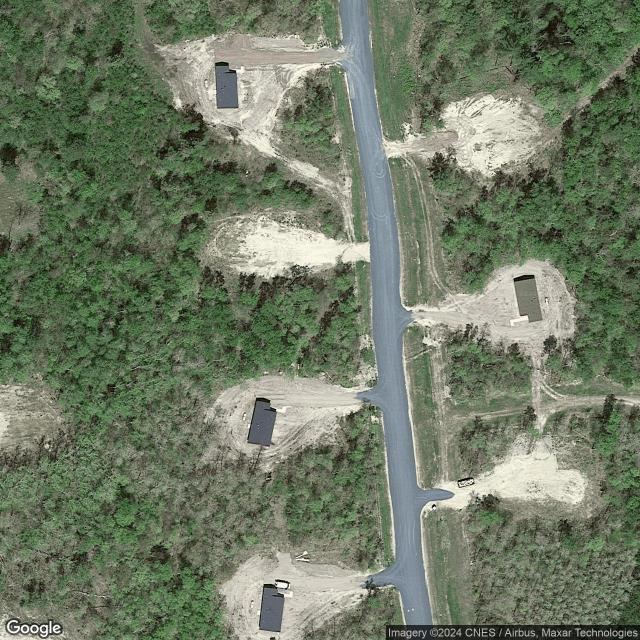Propane: (543, 296, 550, 307), (241, 411, 247, 422), (204, 78, 208, 89), (250, 599, 254, 609)
